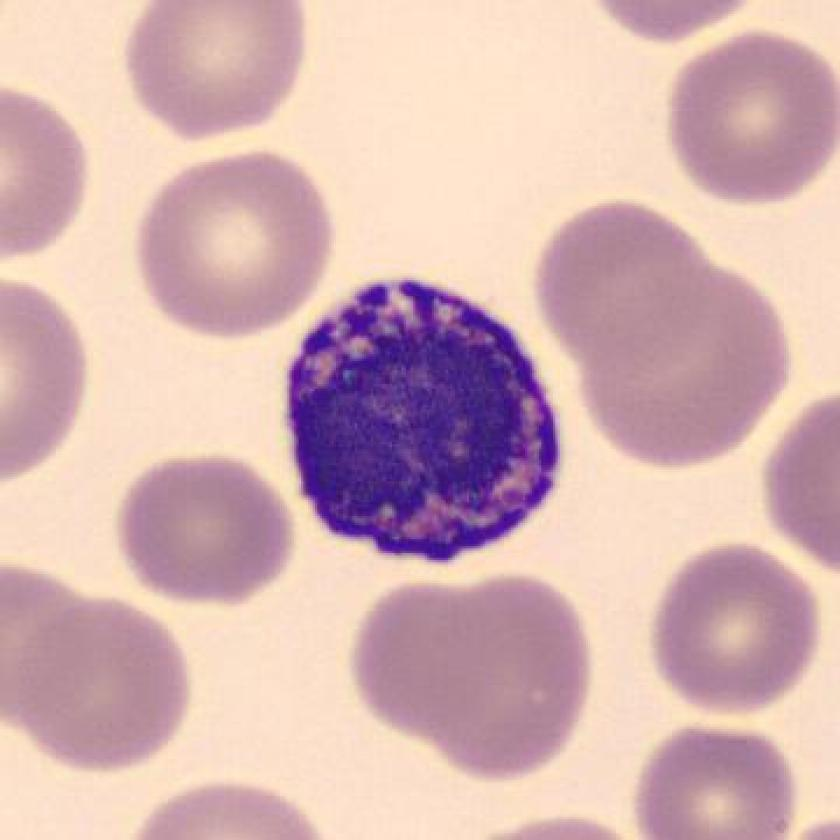basophil: (276, 270, 573, 580)
